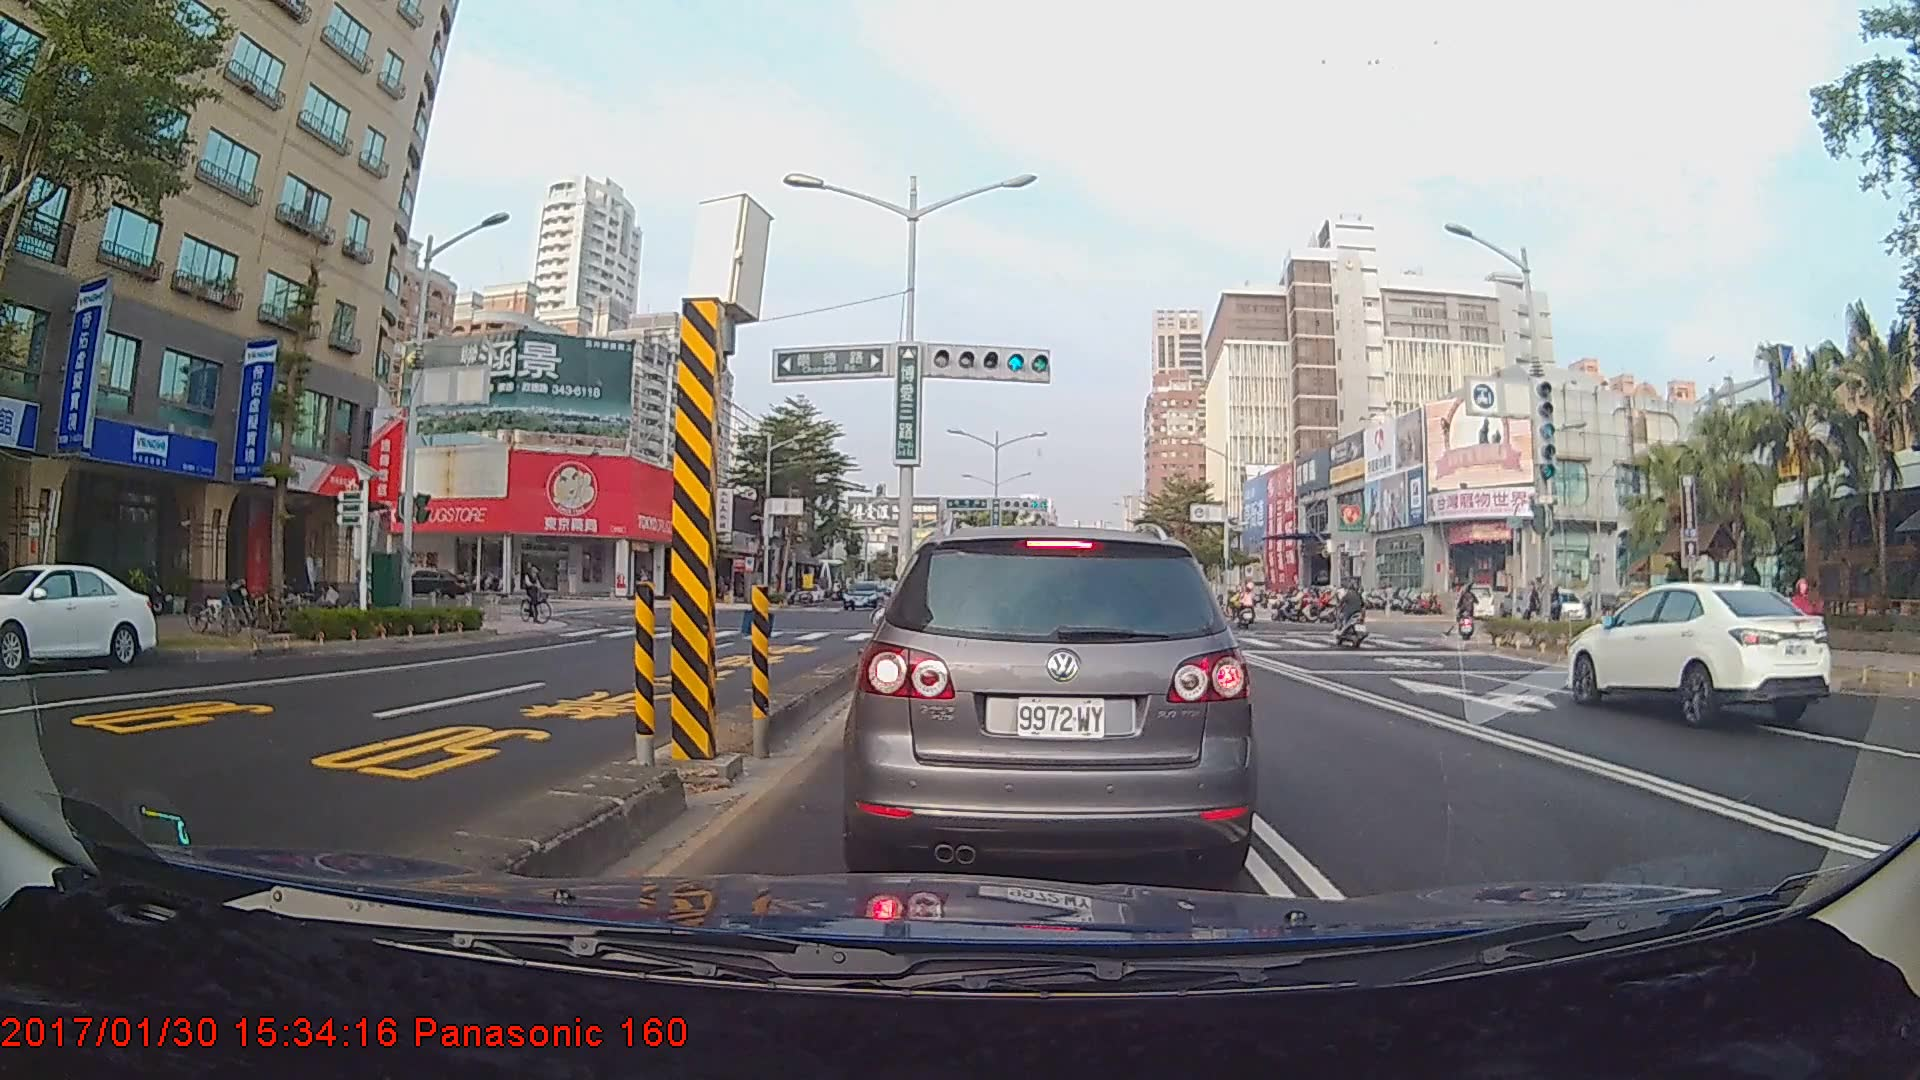rider: (1328, 580, 1375, 648), (518, 559, 561, 629), (1450, 582, 1479, 646)
vehicle: (853, 520, 1251, 876), (1564, 579, 1836, 730), (0, 561, 158, 671), (388, 567, 470, 600), (845, 577, 883, 609)
